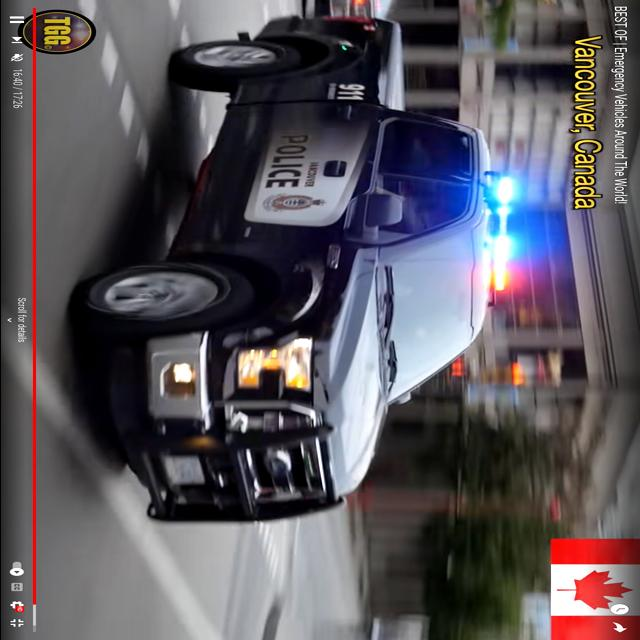emergency-vehicles: (68, 11, 528, 543)
